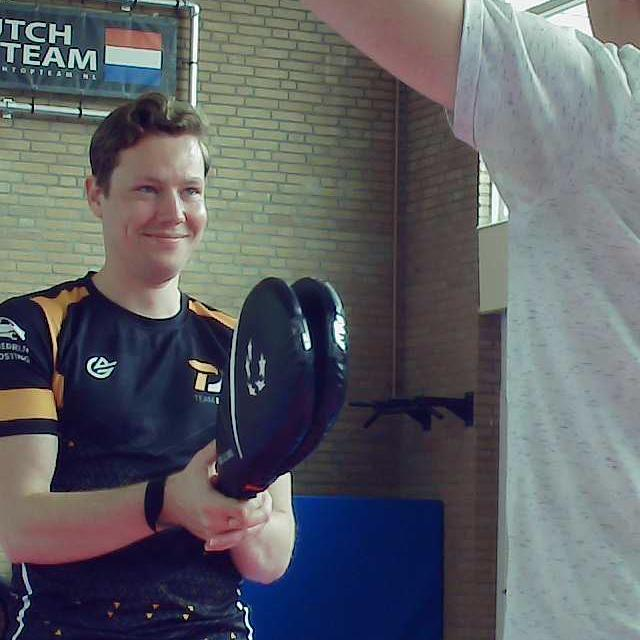paddle: (211, 275, 344, 497)
